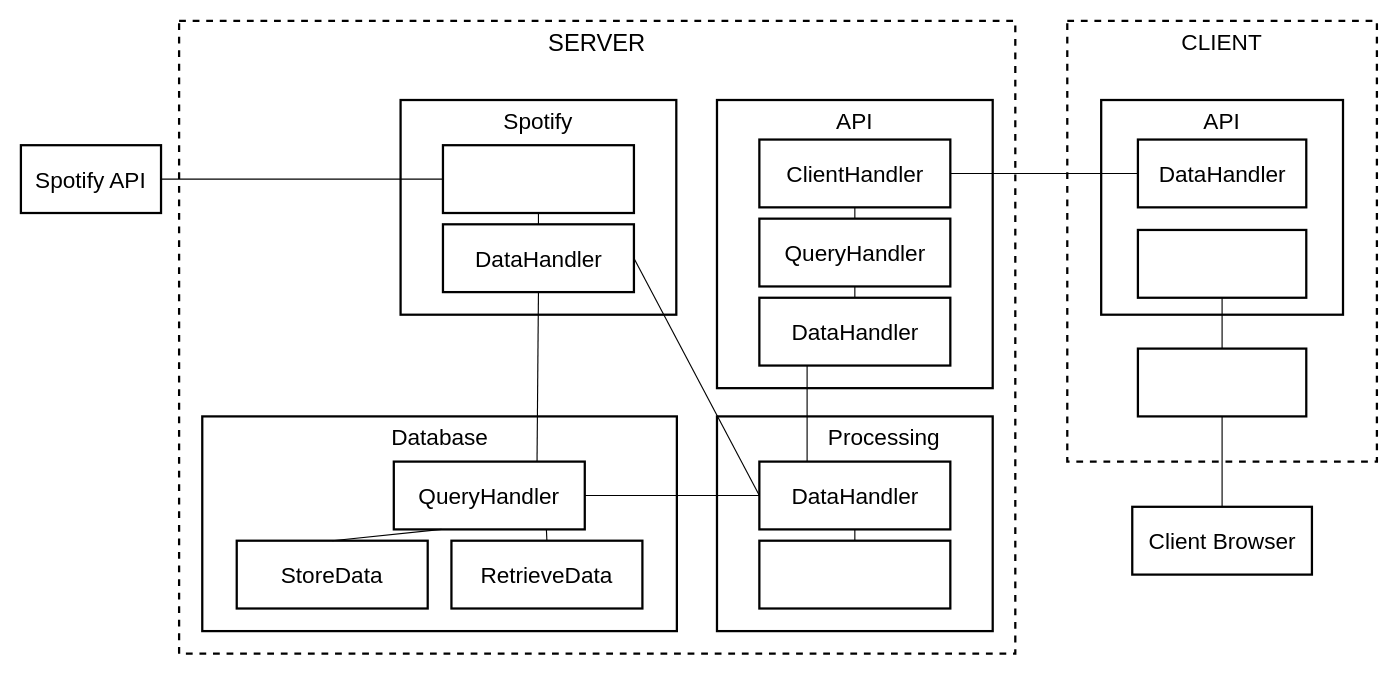
This 1397x673 diagram has some shape labels left out. The centre of each missing label's shape, as x and y in pixels:
DataFormatter: (1221,263)
DataProcessor: (854,574)
GUI: (1221,382)
TokenHandler: (537,179)
